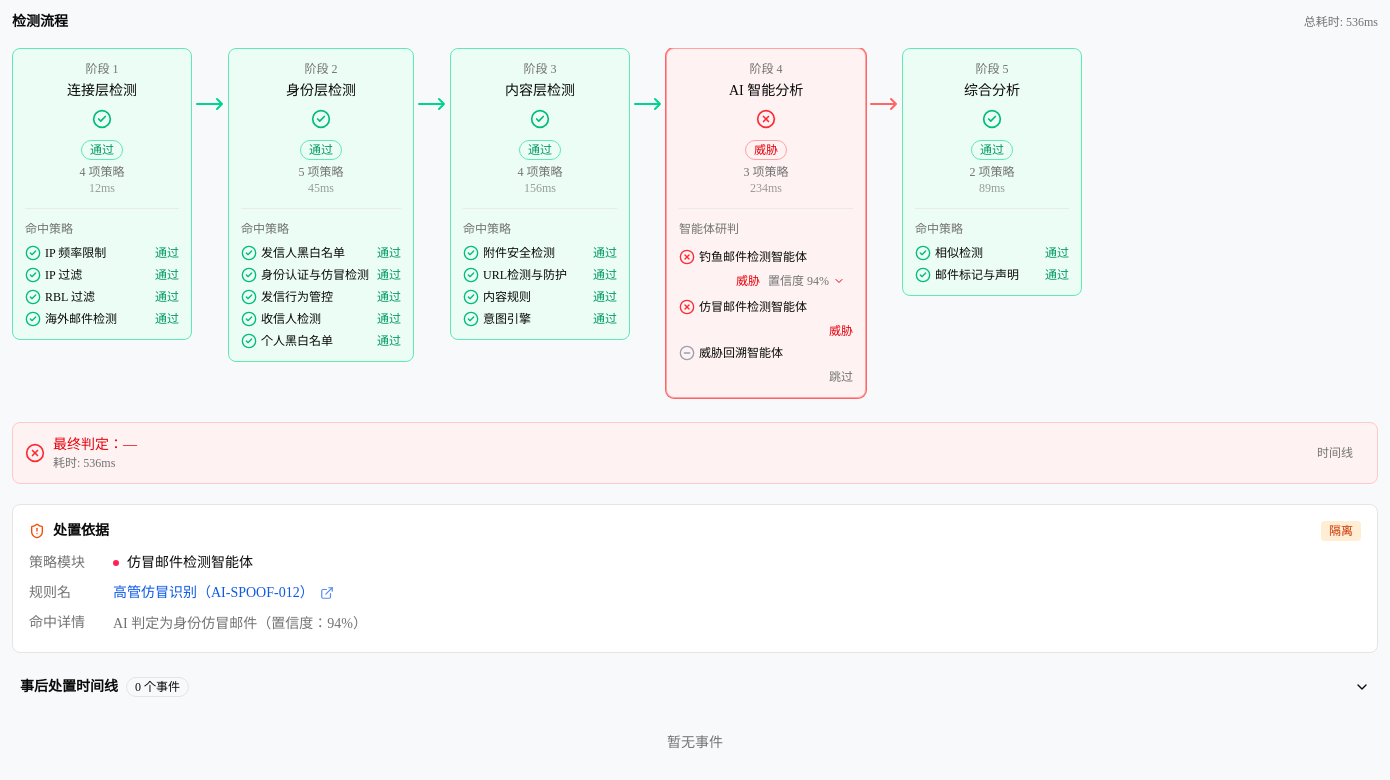
Test case: AnalysisSection (v2 spec alignment) › shows phishing investigation details inline under the stage-4 agent row
Click the button with test id "analysis-ai-verdict-detail-toggle" at (762, 269), box [675, 245, 849, 293]
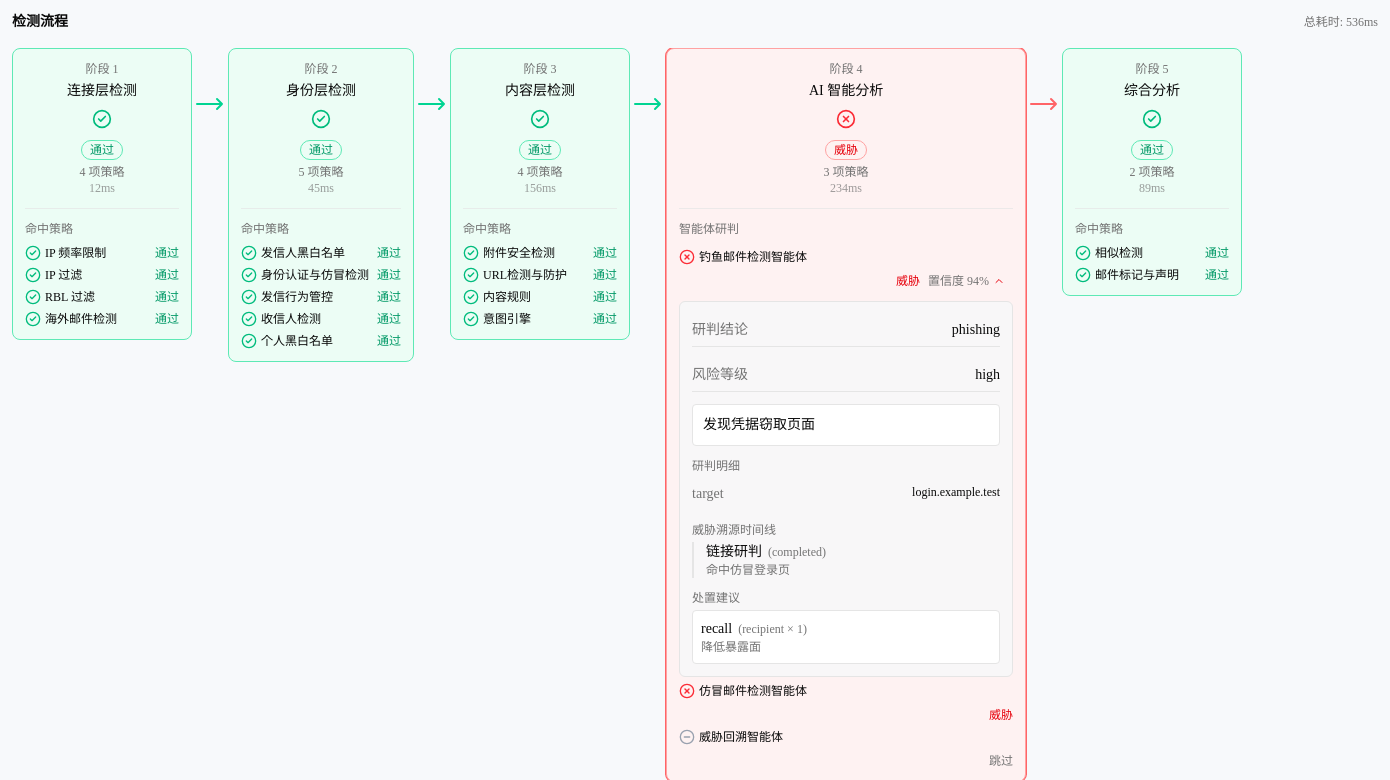
Now the element with test id "analysis-check-phishingAgent-detail" shows "发现凭据窃取页面", box [703, 417, 815, 432]
Now the element with test id "analysis-check-phishingAgent-detail" shows "链接研判", box [706, 544, 762, 559]
Now the element with test id "analysis-check-phishingAgent-detail" shows "降低暴露面", box [701, 640, 761, 654]
